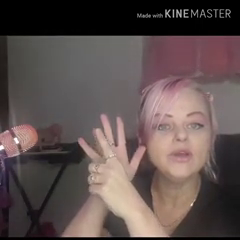O: (74, 113, 149, 215)
